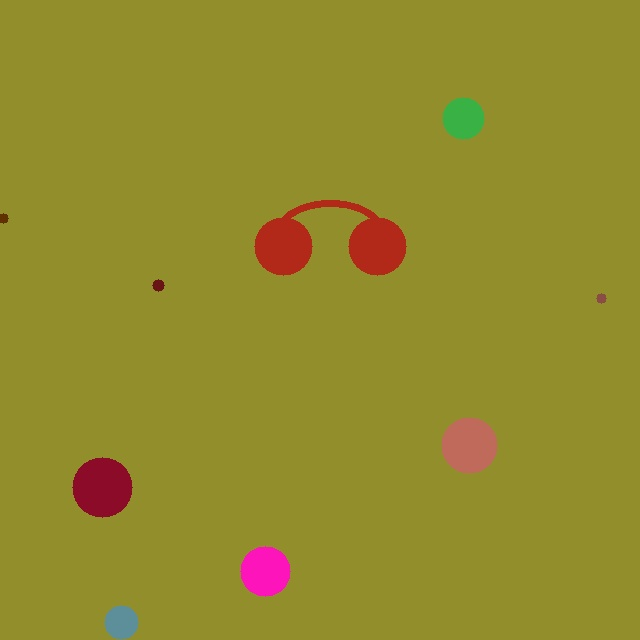over_ear: (250, 186, 410, 279)
